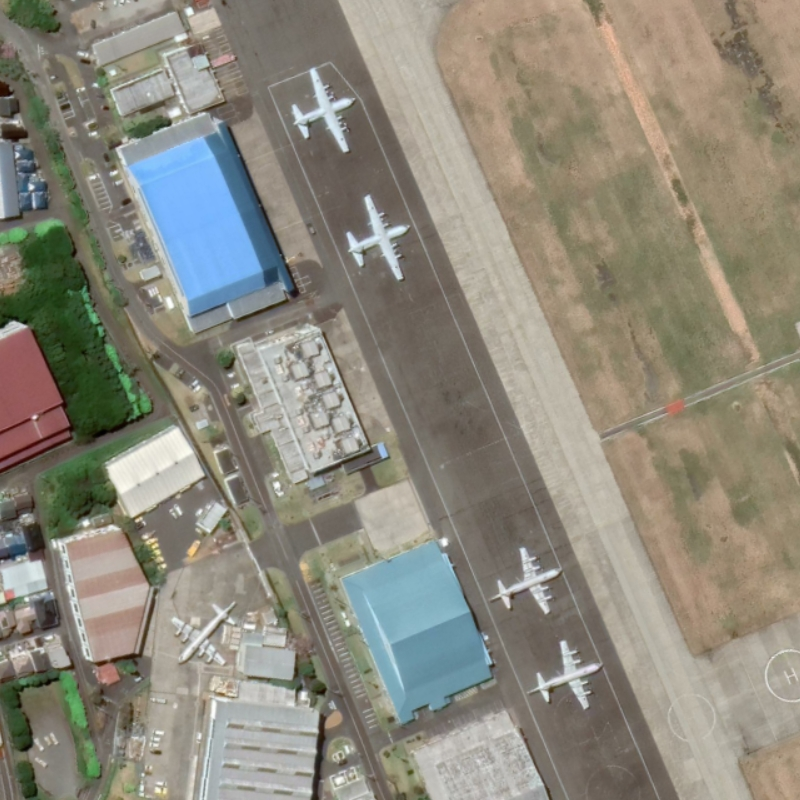A2: (278, 63, 370, 161), (338, 190, 415, 287)
A9: (481, 535, 570, 619), (519, 637, 604, 716), (164, 598, 243, 673)
